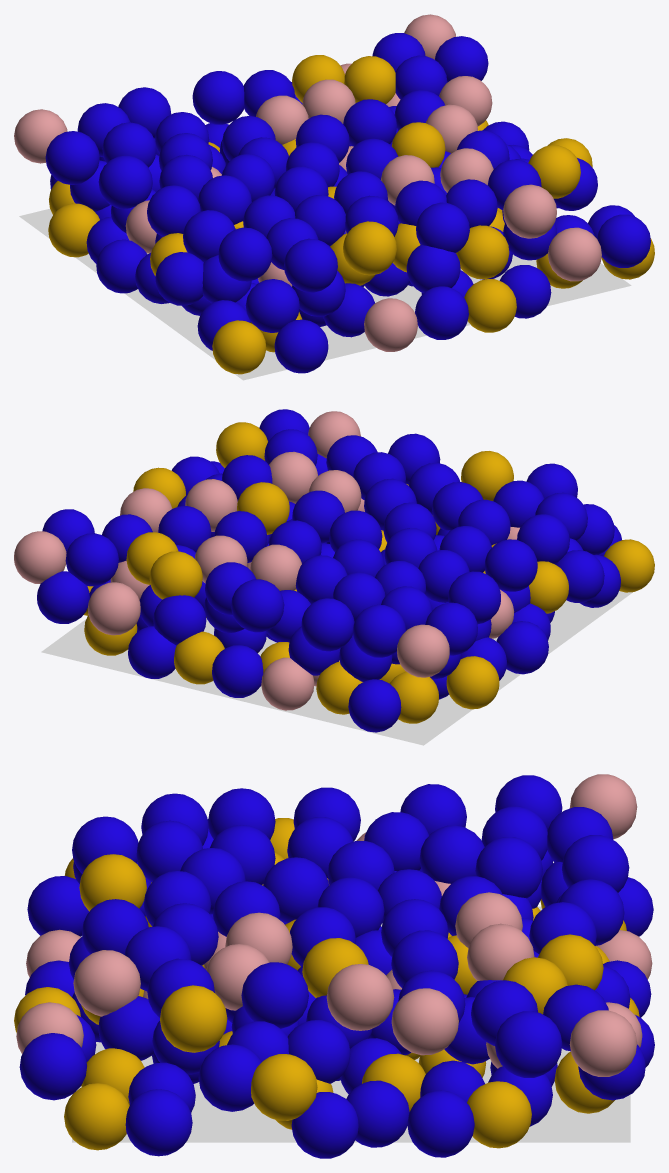
Rendered from Ballpit_HP copy.fbx.
The picture shows the model from 3 angles, top to bottom: view 1: azimuth 30°, elevation 25°; view 2: azimuth 150°, elevation 25°; view 3: azimuth 270°, elevation 25°; orthographic projection. The views are drawn at different scales.
Parts seen in each view (by area): view 1: ballpit_HP, Ballpit_LP; view 2: ballpit_HP, Ballpit_LP; view 3: ballpit_HP, Ballpit_LP.
Boxes of the visible parts, <box> form: ballpit_HP: <box>14,14,654,374</box>; Ballpit_LP: <box>19,208,631,380</box>; ballpit_HP: <box>14,409,654,732</box>; Ballpit_LP: <box>41,591,632,745</box>; ballpit_HP: <box>14,774,654,1158</box>; Ballpit_LP: <box>72,906,630,1142</box>.
Size of the model in its own units: 234 by 57.2 by 229.
